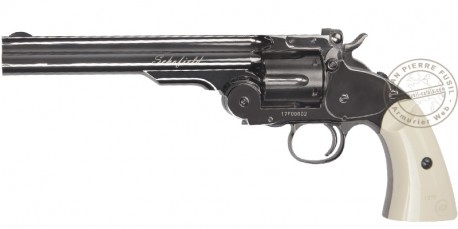Revolver: (1, 17, 457, 221)
